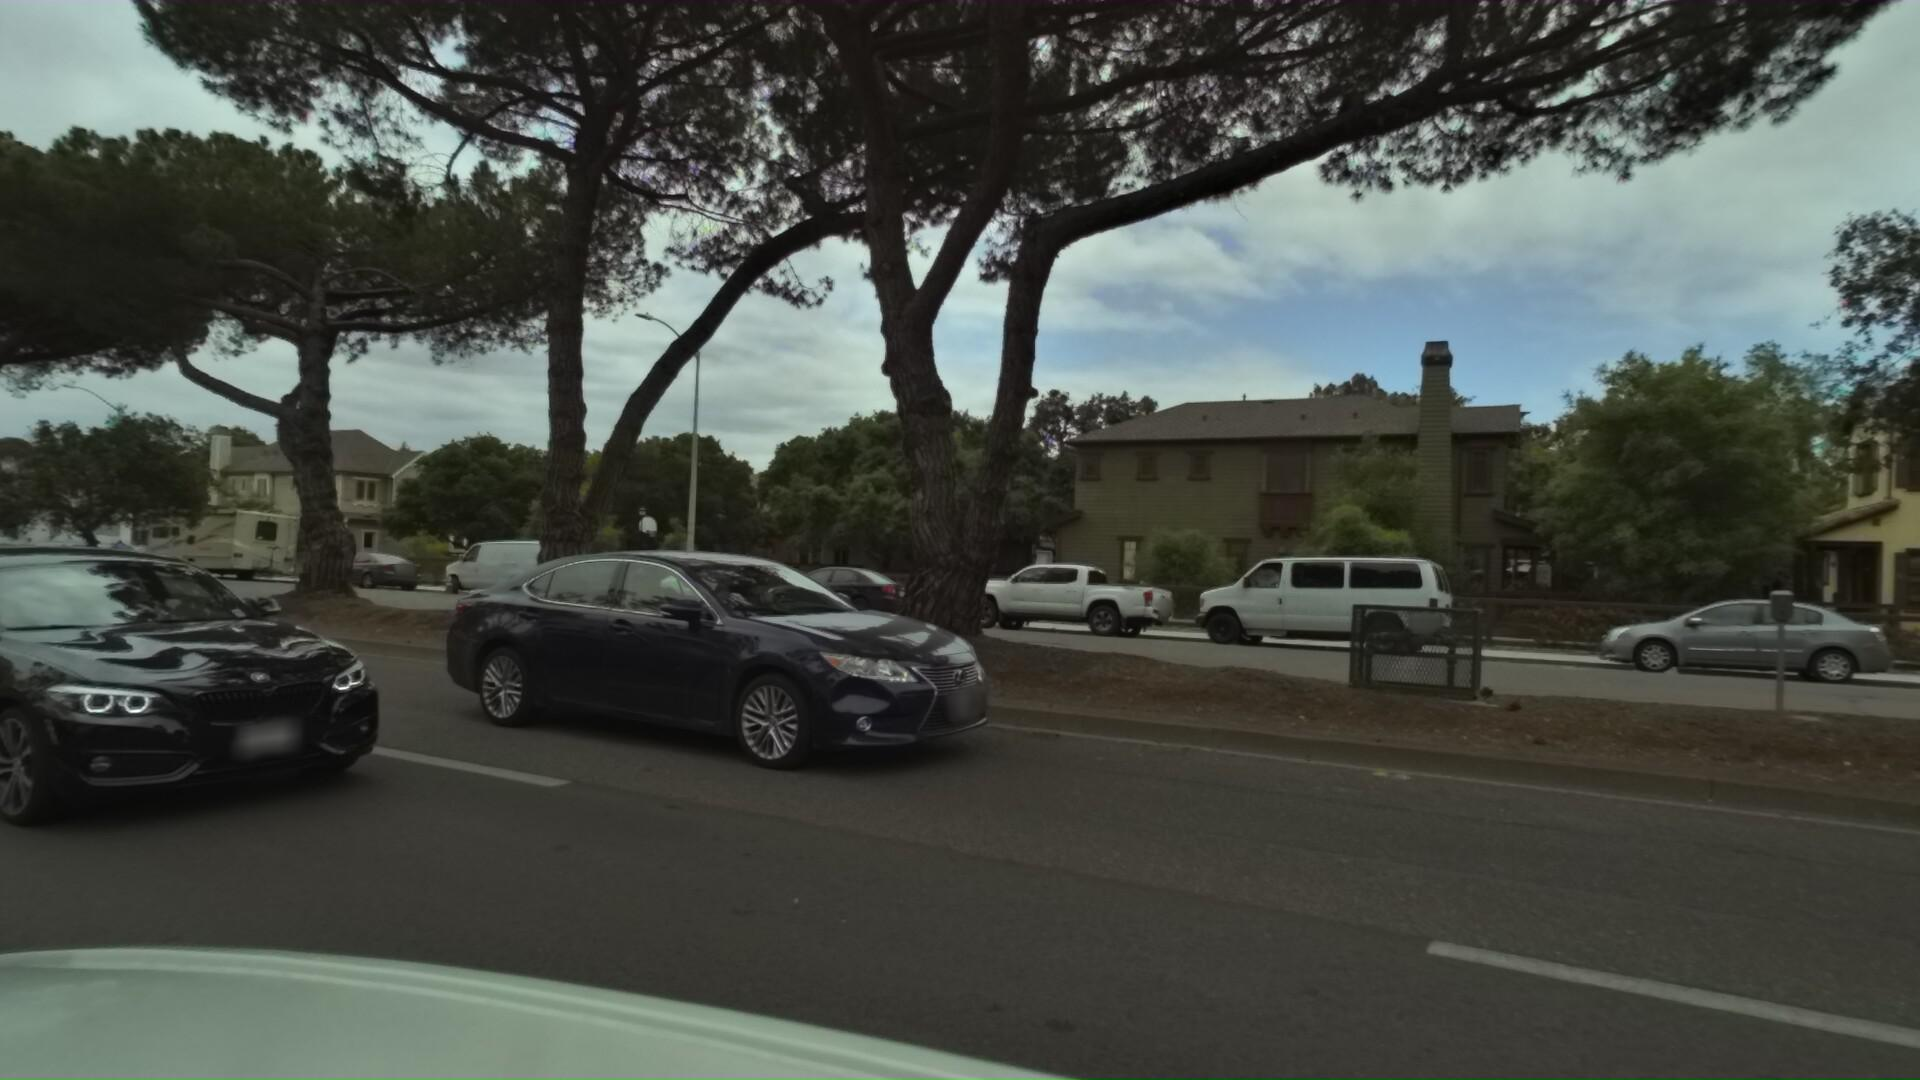car: (419, 487, 1048, 796), (0, 493, 465, 858), (1545, 578, 1863, 684), (1153, 542, 1431, 659), (919, 551, 1160, 646), (732, 556, 907, 625), (421, 529, 585, 600), (298, 542, 425, 593)
other_vehicle: (117, 497, 315, 582), (0, 496, 141, 571), (70, 530, 153, 574)
